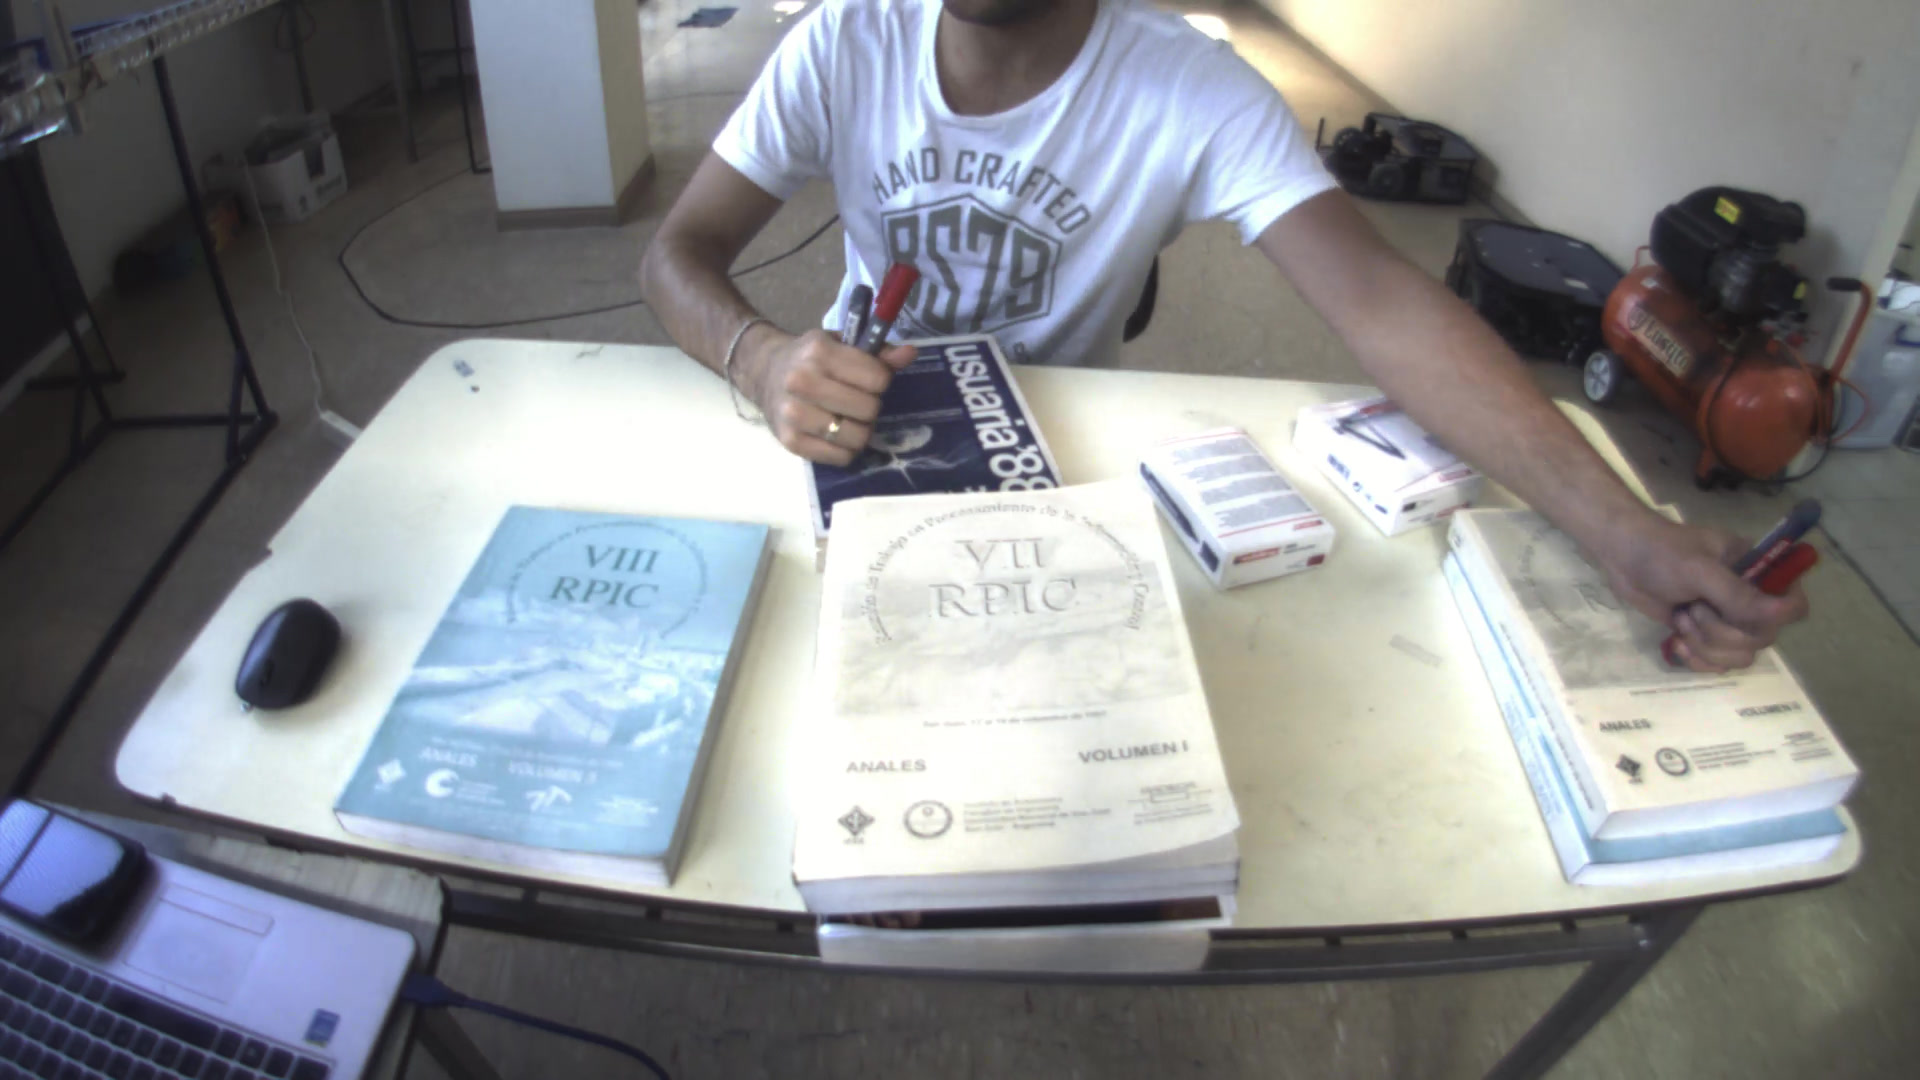hand: (1610, 510, 1820, 688), (723, 305, 927, 465)
